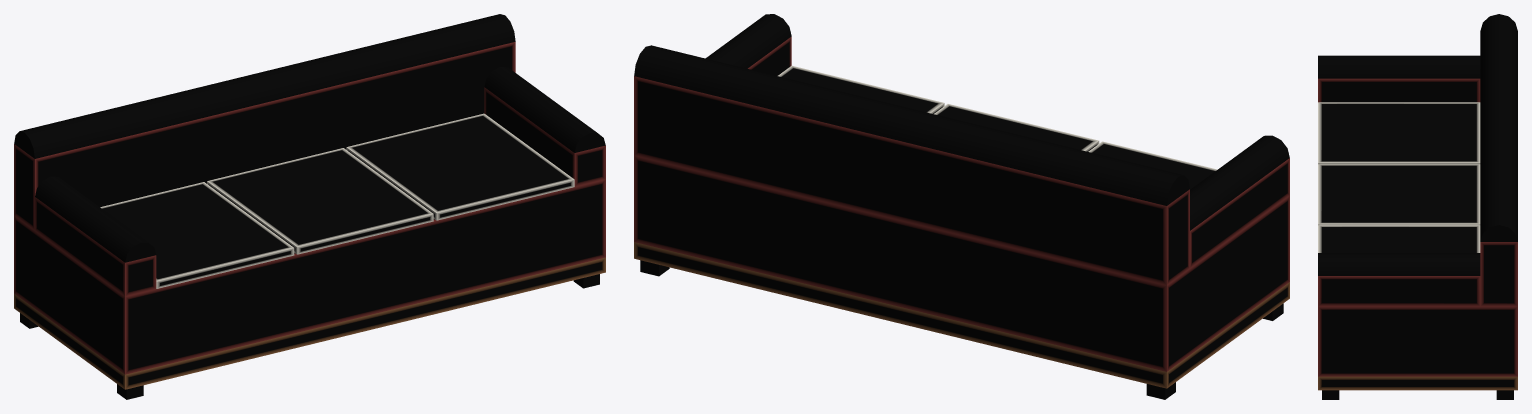
Rendered from settee.glb.
3 renders of one model, left to right at view 1: azimuth 30°, elevation 25°; view 2: azimuth 150°, elevation 25°; view 3: azimuth 270°, elevation 25°, orthographic. The views are drawn at different scales.
Visible parts, largest first — view 1: upholstery, cushions, frame; view 2: upholstery, frame, cushions; view 3: upholstery, cushions, frame.
Boxes of the visible parts, x1,y1,x2,y2 form: upholstery: (14, 14, 605, 374); cushions: (100, 113, 574, 288); frame: (14, 257, 605, 399); upholstery: (634, 14, 1289, 371); frame: (634, 242, 1289, 399); cushions: (778, 65, 1217, 189); upholstery: (1318, 14, 1517, 376); cushions: (1318, 102, 1480, 252); frame: (1318, 376, 1517, 399).
Size of the model in its own units: 2 by 0.78 by 0.8.
